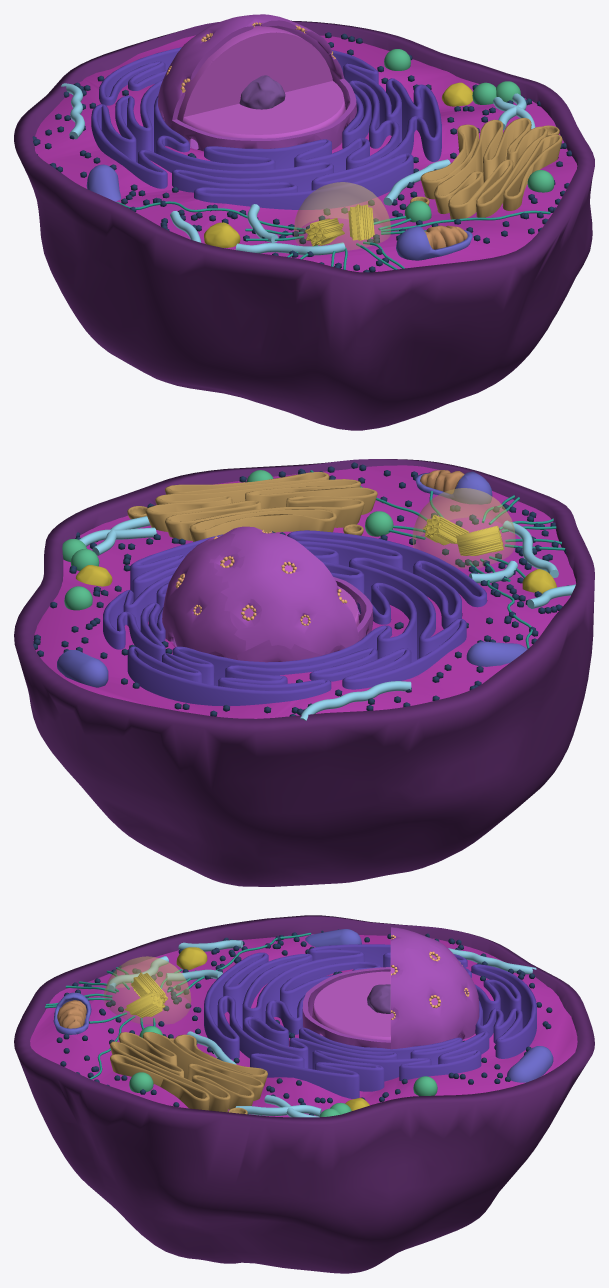
The model's file is cell.glb.
3 renders of one model, top to bottom at view 1: azimuth 30°, elevation 25°; view 2: azimuth 150°, elevation 25°; view 3: azimuth 270°, elevation 25°, orthographic. The views are drawn at different scales.
Visible parts, largest first — view 1: cz-membrane, cz-rer, cz-cytoplasm, cz-nucleus, cz-golgi, cz-envelope, cz-centrosome, cz-ribosomes, cz-ser, cz-peroxisomes, cz-mito, cz-microtubules (+4 smaller); view 2: cz-membrane, cz-rer, cz-cytoplasm, cz-envelope, cz-golgi, cz-centrosome, cz-ribosomes, cz-ser, cz-mito, cz-peroxisomes, cz-centrioles, cz-microtubules (+3 smaller); view 3: cz-membrane, cz-rer, cz-cytoplasm, cz-envelope, cz-golgi, cz-centrosome, cz-nucleus, cz-ribosomes, cz-ser, cz-mito, cz-microtubules, cz-peroxisomes (+4 smaller).
Part boxes in pixels (box(x1,y1,x2,y2)): cz-membrane: box(14, 20, 594, 430); cz-rer: box(91, 47, 441, 209); cz-cytoplasm: box(34, 35, 577, 272); cz-nucleus: box(177, 26, 345, 139); cz-golgi: box(420, 118, 562, 219); cz-envelope: box(158, 14, 356, 151); cz-centrosome: box(293, 182, 390, 250); cz-ribosomes: box(32, 32, 575, 272); cz-ser: box(61, 83, 535, 255); cz-peroxisomes: box(384, 49, 554, 222); cz-mito: box(86, 164, 472, 260); cz-microtubules: box(116, 201, 550, 269); cz-membrane: box(14, 459, 594, 886); cz-rer: box(103, 530, 486, 705); cz-cytoplasm: box(33, 465, 575, 718); cz-envelope: box(162, 526, 373, 662); cz-golgi: box(145, 472, 377, 541); cz-centrosome: box(412, 488, 515, 568); cz-ribosomes: box(33, 462, 568, 716); cz-ser: box(79, 516, 575, 720); cz-mito: box(57, 471, 526, 687); cz-peroxisomes: box(62, 470, 393, 610); cz-centrioles: box(423, 514, 503, 555); cz-microtubules: box(310, 470, 565, 649); cz-membrane: box(14, 915, 594, 1273); cz-rer: box(204, 944, 536, 1098); cz-cytoplasm: box(30, 934, 577, 1117); cz-envelope: box(302, 927, 479, 1049); cz-golgi: box(110, 1032, 267, 1112); cz-centrosome: box(103, 956, 191, 1024); cz-nucleus: box(312, 939, 466, 1040); cz-ribosomes: box(56, 929, 552, 1115); cz-ser: box(106, 940, 536, 1117); cz-mito: box(53, 929, 553, 1082); cz-microtubules: box(45, 932, 311, 1079); cz-peroxisomes: box(129, 1026, 437, 1116).
Size of the model in its own units: 16.91 by 11.3 by 20.
Materials: 16 (8 with a texture image).
